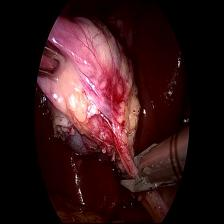Clipper: (120, 126, 181, 199)
Grasper: (37, 41, 66, 83)
